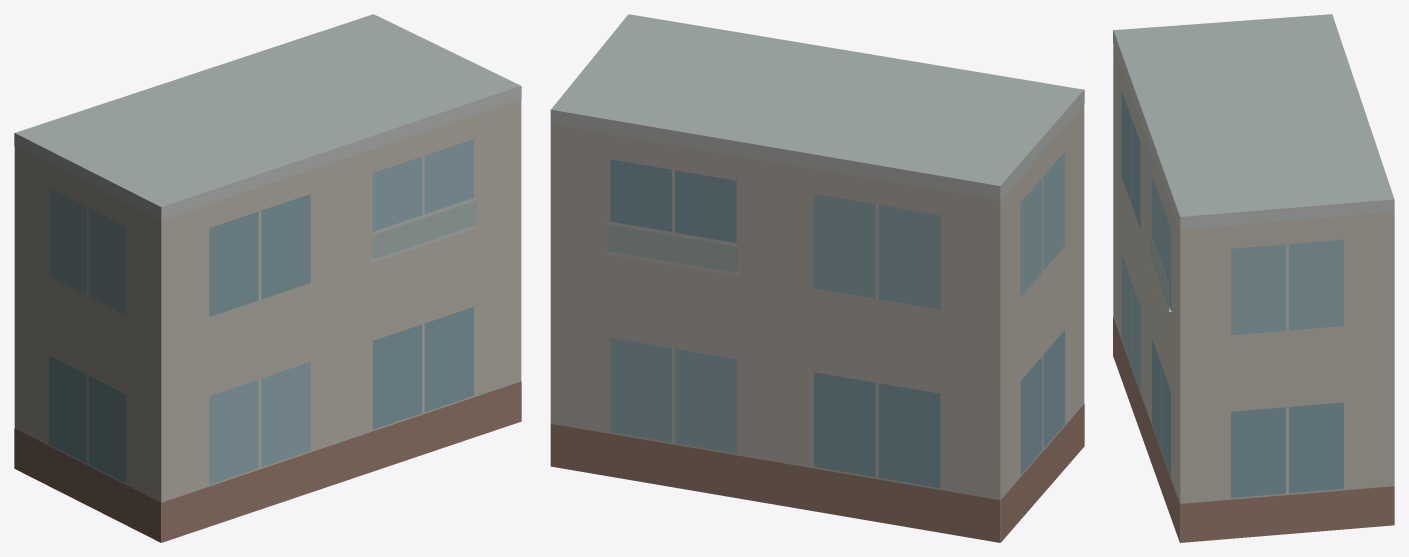
Rendered from survey-upis-32623904.glb.
3 views of the same model, side by side, from view 1: azimuth 30°, elevation 25°; view 2: azimuth 150°, elevation 25°; view 3: azimuth 270°, elevation 25° (orthographic). The views are drawn at different scales.
Parts seen in each view (by area): view 1: survey-upis-32623904.tmp; view 2: survey-upis-32623904.tmp; view 3: survey-upis-32623904.tmp.
Boxes of the visible parts, x1,y1,x2,y2 form: survey-upis-32623904.tmp: (14, 14, 521, 542); survey-upis-32623904.tmp: (550, 14, 1084, 542); survey-upis-32623904.tmp: (1113, 14, 1394, 542).
Size of the model in its own units: 8.16 by 6.1 by 4.78.
